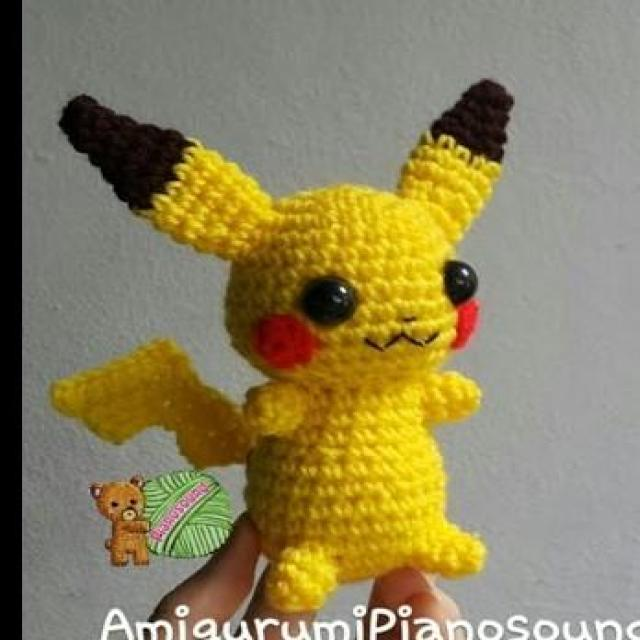pikachu: (53, 76, 527, 616)
